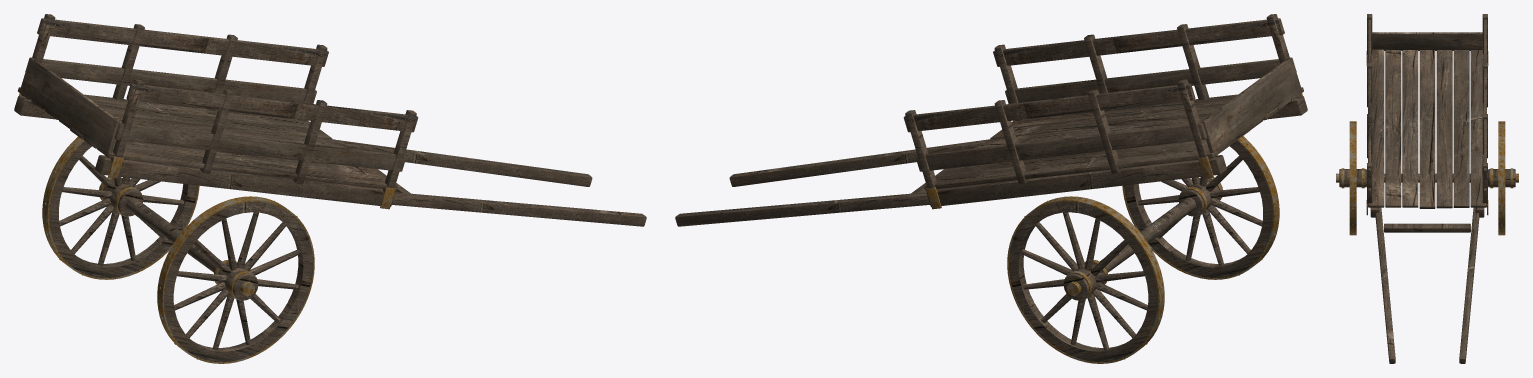
Rendered from cart.glb.
3 views of the same model, side by side, from view 1: azimuth 30°, elevation 25°; view 2: azimuth 150°, elevation 25°; view 3: azimuth 270°, elevation 25° (orthographic). The views are drawn at different scales.
Parts seen in each view (by area): view 1: cart_wood, cart_iron; view 2: cart_wood, cart_iron; view 3: cart_wood, cart_iron.
Part boxes in pixels (<box>): cart_wood: <box>14,14,646,362</box>; cart_iron: <box>19,93,395,363</box>; cart_wood: <box>675,14,1307,362</box>; cart_iron: <box>926,93,1302,363</box>; cart_wood: <box>1339,14,1515,363</box>; cart_iron: <box>1336,51,1518,235</box>.
Bounding box in the file's own units: 4.56 × 2.27 × 1.99.
Materials: 2 (2 with a texture image).
